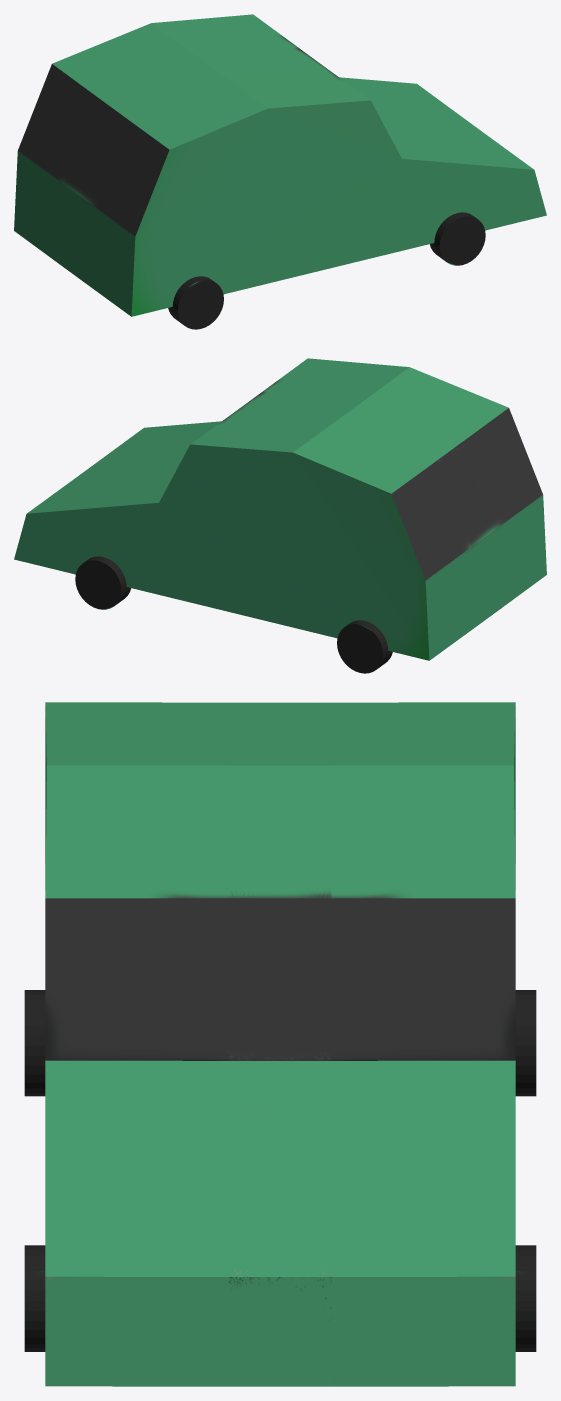
File: car1.dae
3 renders of one model, top to bottom at view 1: azimuth 30°, elevation 25°; view 2: azimuth 150°, elevation 25°; view 3: azimuth 270°, elevation 25°, orthographic. The views are drawn at different scales.
Parts seen in each view (by area): view 1: Cube; view 2: Cube; view 3: Cube.
Boxes of the visible parts, x1,y1,x2,y2 form: Cube: [14, 14, 546, 329]; Cube: [14, 358, 546, 673]; Cube: [24, 702, 536, 1386].
Size of the model in its own units: 4.08 by 2.18 by 1.86.
